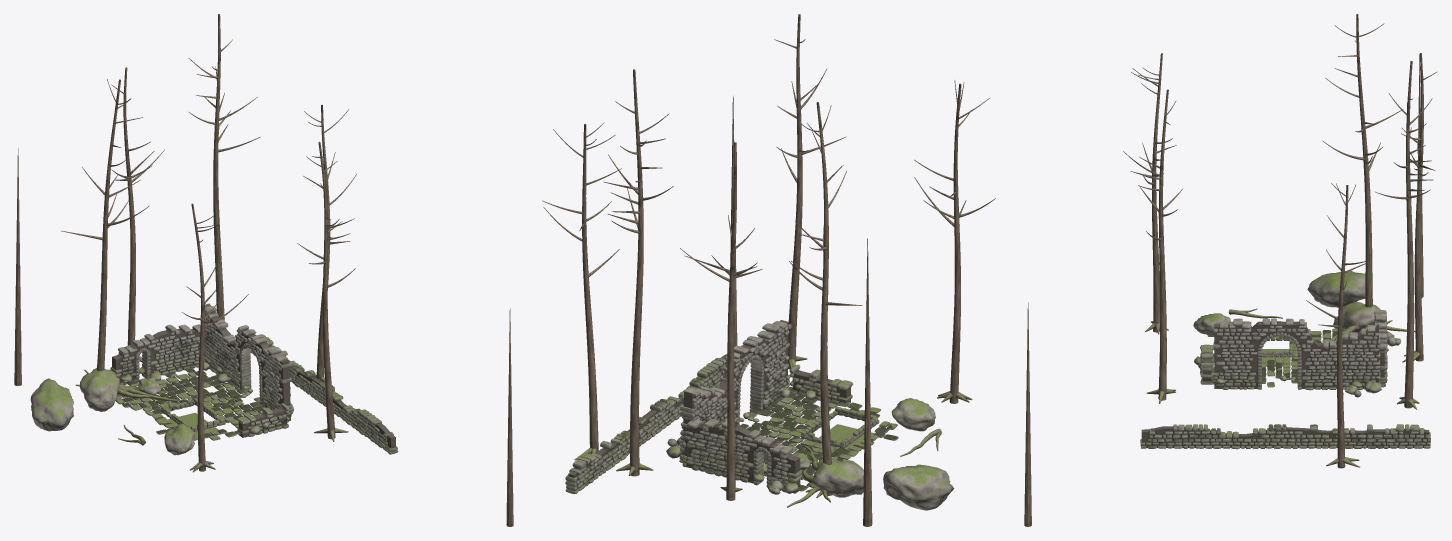
The model's file is felsmulde-bauten.glb.
3 renders of one model, left to right at view 1: azimuth 30°, elevation 25°; view 2: azimuth 150°, elevation 25°; view 3: azimuth 270°, elevation 25°, orthographic. The views are drawn at different scales.
Parts seen in each view (by area): view 1: Moosbloecke, MauerA, Hof, MauerB, Held1_Holz, Stuetzmauer, Held0_Holz, Held2_Holz, Held3_Holz, Held5_Holz, Held4_Holz, HeldN0_Holz (+7 smaller); view 2: Moosbloecke, MauerA, MauerB, Hof, Held1_Holz, Stuetzmauer, Held0_Holz, Held5_Holz, Held3_Holz, Held2_Holz, Held4_Holz, MauerB_Kern (+7 smaller); view 3: MauerA, Stuetzmauer, MauerA_Kern, Moosbloecke, Held1_Holz, Held2_Holz, Held0_Holz, Stuetzmauer_Kern, Held4_Holz, Held5_Holz, Held3_Holz, Hof (+6 smaller).
Part boxes in pixels (x1,y1,x2,y2): Moosbloecke: (30, 368, 194, 455); MauerA: (204, 306, 293, 416); Hof: (115, 364, 288, 440); MauerB: (110, 324, 205, 385); Held1_Holz: (189, 14, 260, 320); Stuetzmauer: (250, 334, 398, 454); Held0_Holz: (61, 79, 148, 370); Held2_Holz: (297, 141, 355, 441); Held3_Holz: (182, 203, 248, 472); Held5_Holz: (111, 67, 164, 361); Held4_Holz: (303, 105, 356, 381); HeldN0_Holz: (14, 148, 21, 385); Moosbloecke: (792, 398, 954, 510); MauerA: (679, 321, 791, 463); MauerB: (682, 419, 802, 492); Hof: (739, 386, 898, 491); Held1_Holz: (603, 69, 673, 476); Stuetzmauer: (565, 357, 726, 493); Held0_Holz: (789, 102, 861, 497); Held5_Holz: (680, 142, 762, 500); Held3_Holz: (914, 80, 995, 403); Held2_Holz: (774, 14, 846, 369); Held4_Holz: (542, 122, 621, 460); MauerB_Kern: (684, 424, 800, 493); MauerA: (1213, 318, 1380, 390); Stuetzmauer: (1140, 424, 1430, 449); MauerA_Kern: (1214, 321, 1378, 388); Moosbloecke: (1193, 271, 1380, 340); Held1_Holz: (1375, 61, 1432, 409); Held2_Holz: (1123, 89, 1183, 403); Held0_Holz: (1322, 14, 1403, 307); Stuetzmauer_Kern: (1141, 426, 1429, 447); Held4_Holz: (1306, 183, 1371, 468); Held5_Holz: (1401, 53, 1437, 362); Held3_Holz: (1130, 53, 1176, 334); Hof: (1207, 328, 1345, 387).
Bounding box in the file's own units: 35.18 × 40.59 × 36.95.
21 materials, 21 textured.
